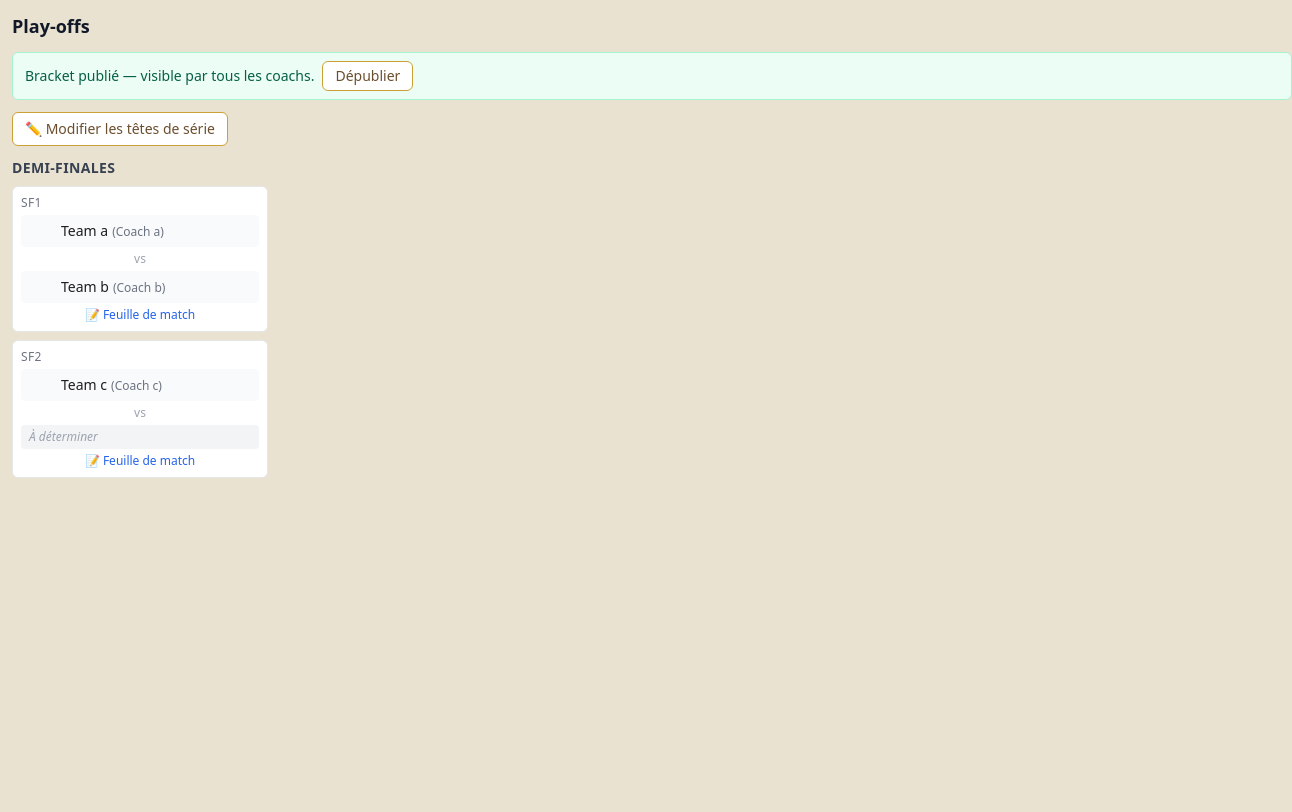
CupPlayoffBracketView › refuse d'enregistrer des têtes incomplètes, sans appeler l'API
expect the element with test id "cup-playoffs" is shown: met, box [12,12,1291,486]
Click the button with test id "cup-playoffs-edit-seeds": (120, 129) [12,112,228,146]
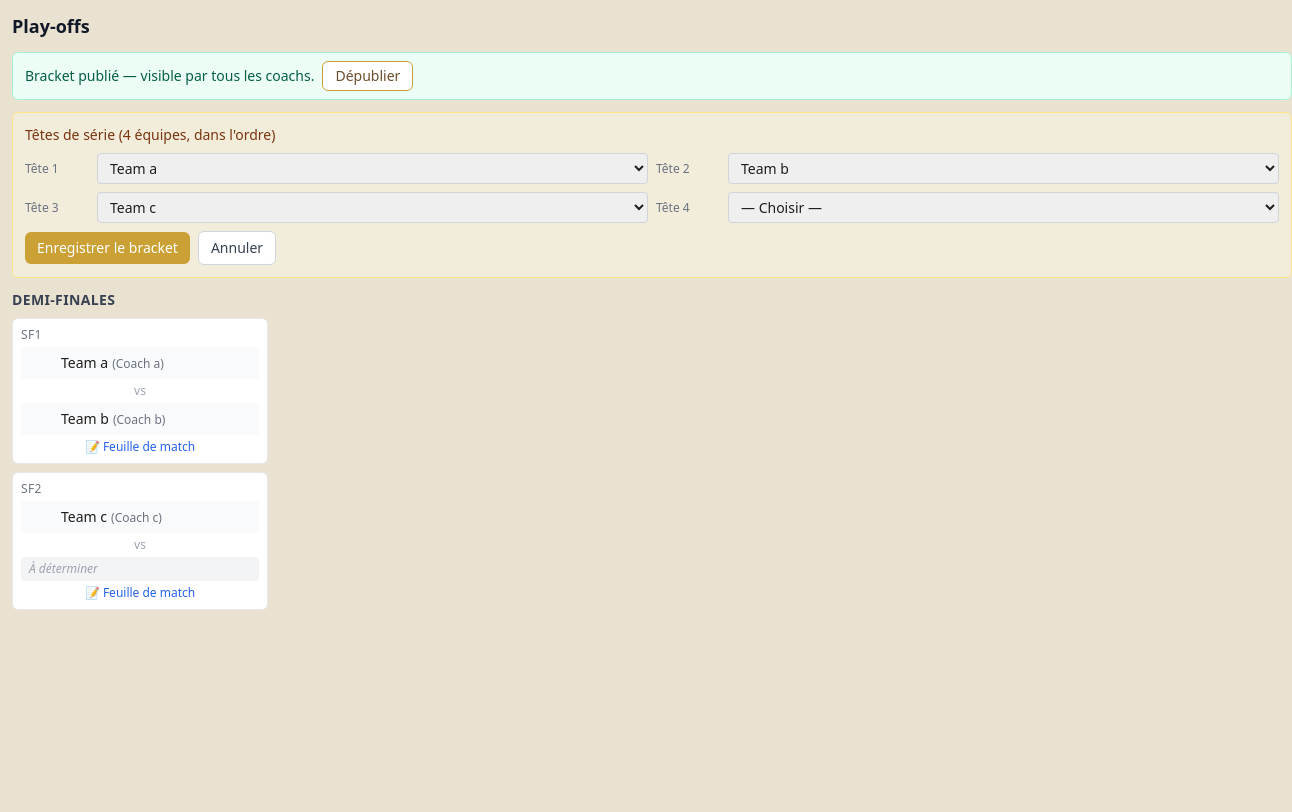
Click the button with test id "cup-playoffs-save-seeds": (107, 248) [25,232,190,264]
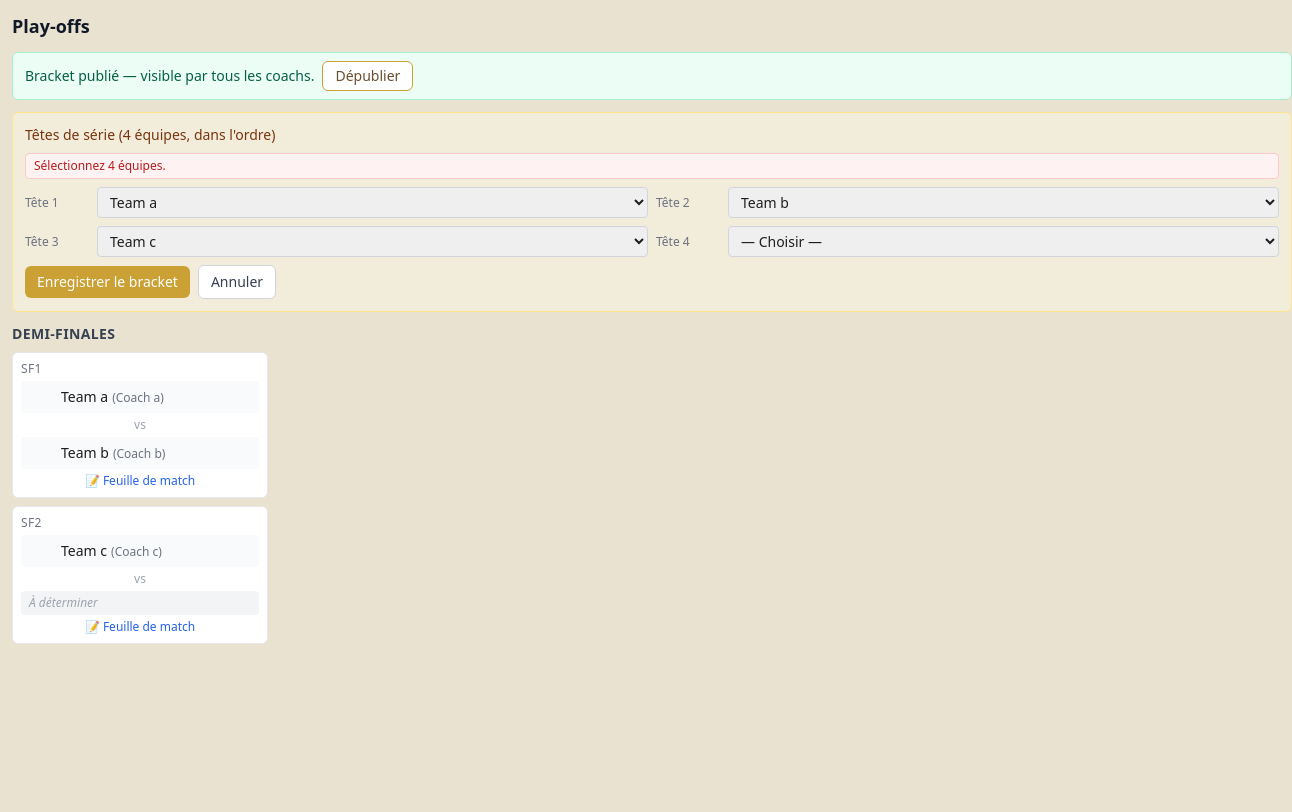
expect the text "Sélectionnez 4 équipes." is shown: met, box [25,153,1279,179]
